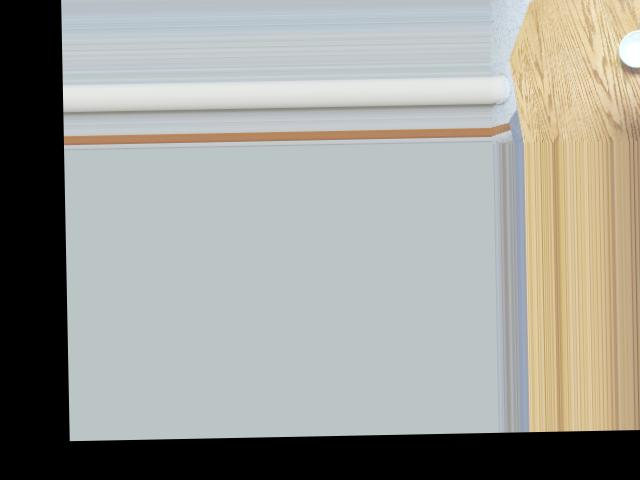cotage: (618, 25, 640, 70)
